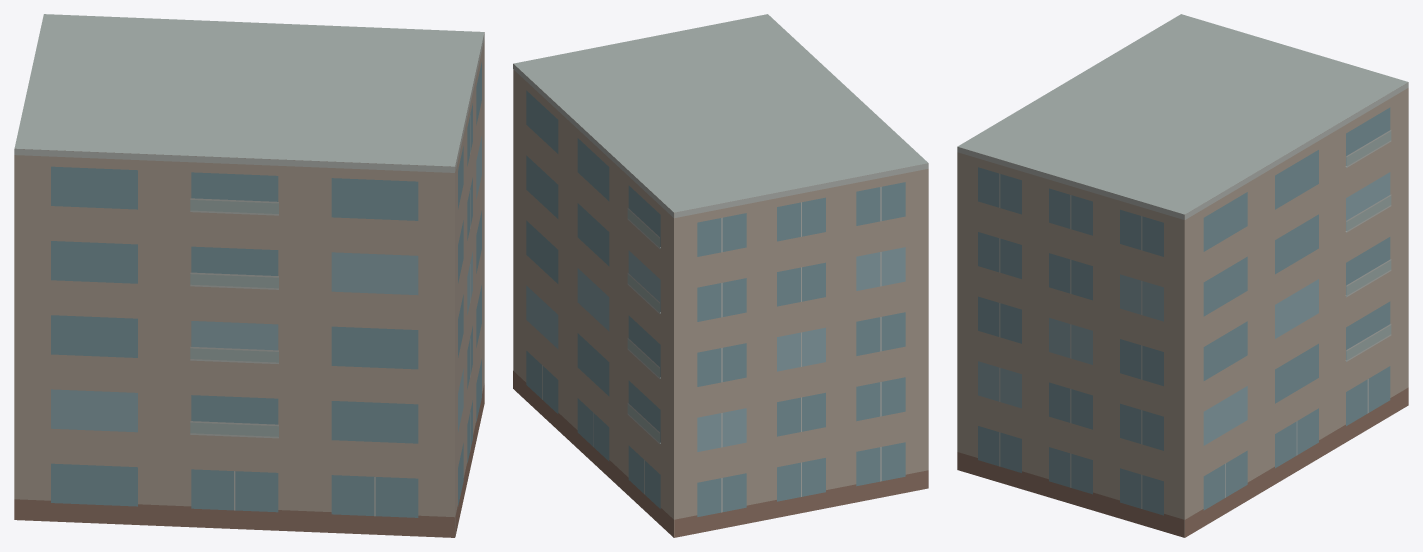
Rendered from survey-upis-32968650.glb.
3 renders of one model, left to right at view 1: azimuth 30°, elevation 25°; view 2: azimuth 150°, elevation 25°; view 3: azimuth 270°, elevation 25°, orthographic. The views are drawn at different scales.
Parts seen in each view (by area): view 1: survey-upis-32968650.tmp; view 2: survey-upis-32968650.tmp; view 3: survey-upis-32968650.tmp.
Part boxes in pixels (x1,y1,x2,y2): survey-upis-32968650.tmp: [14, 14, 484, 537]; survey-upis-32968650.tmp: [513, 14, 928, 537]; survey-upis-32968650.tmp: [957, 14, 1408, 537].
Size of the model in its own units: 18.91 by 14.2 by 17.98.
